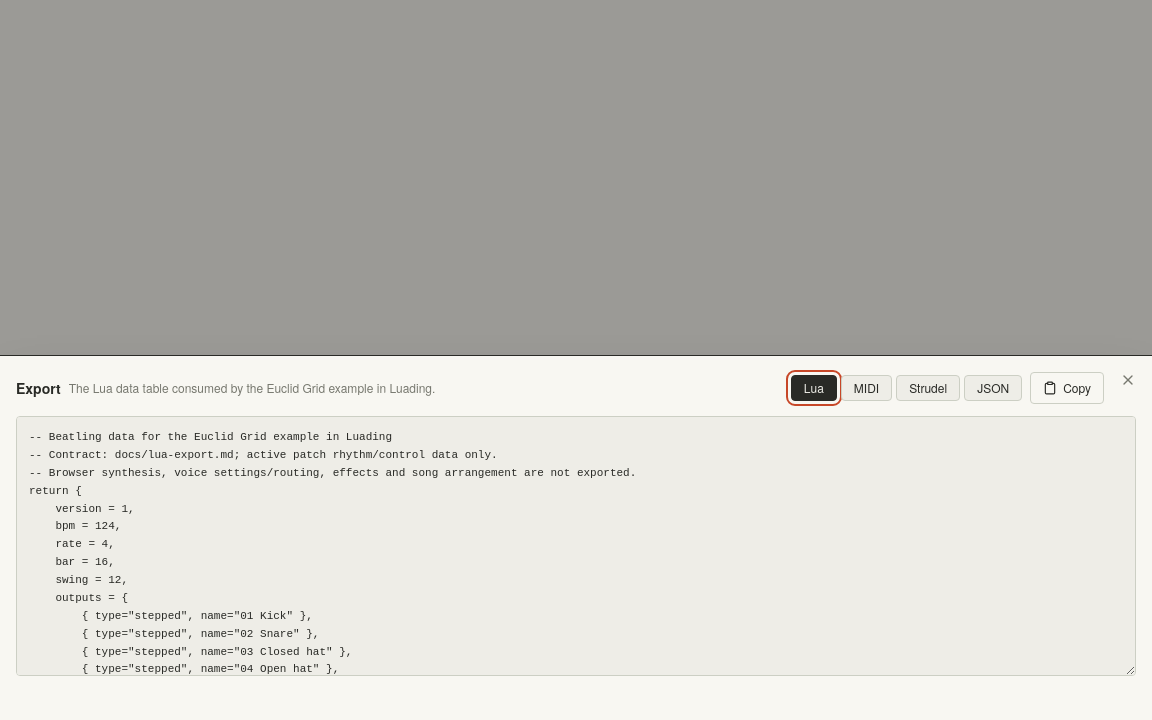
Test: ExportDialog › offers Lua data, MIDI download, Strudel code, and editable JSON
Step 1. Press the mouse on the tab "MIDI" → x=866, y=388, box [841, 375, 892, 401]
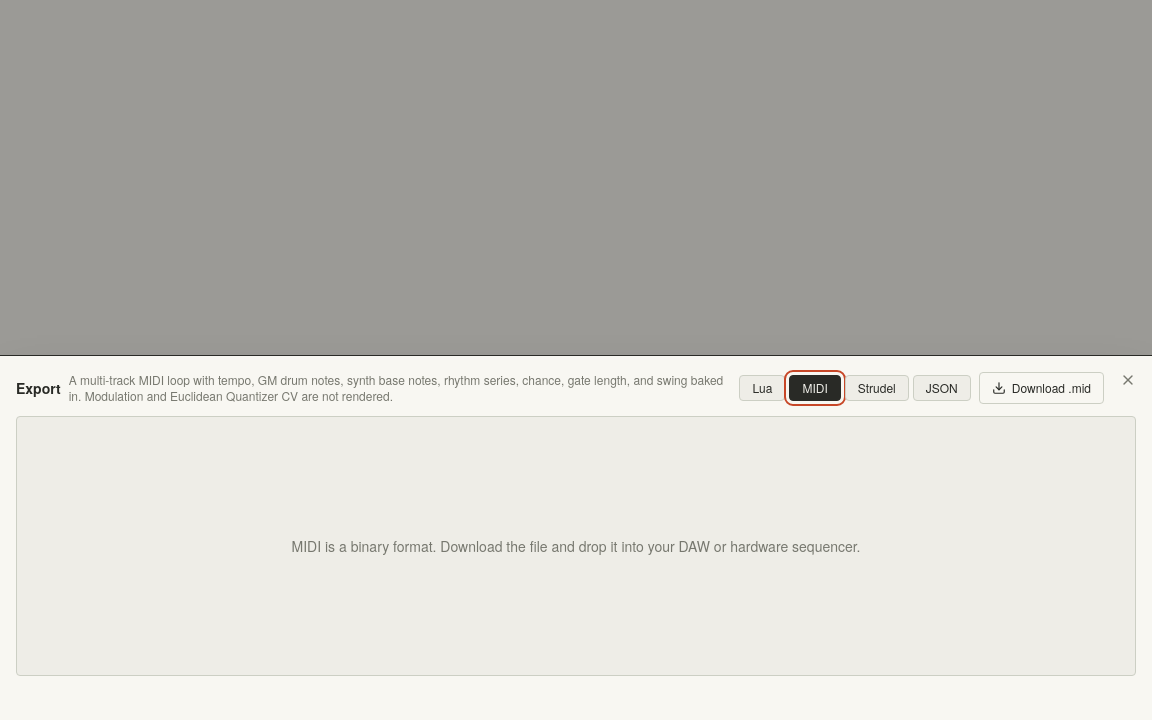
Step 2. Click the button "Download .mid" → x=1041, y=388, box [979, 372, 1104, 404]
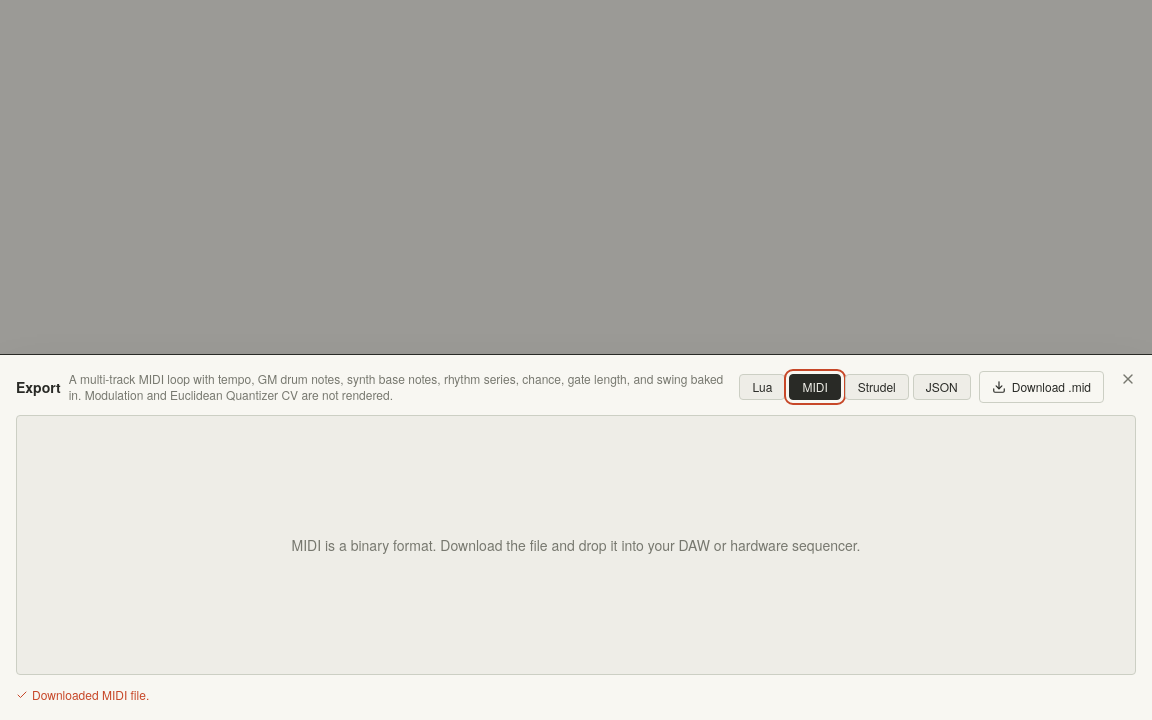
Now the text "Downloaded MIDI file." is shown, box [16, 687, 149, 703]
Step 3. Press the mouse on the tab "Strudel" → x=877, y=387, box [845, 374, 909, 400]
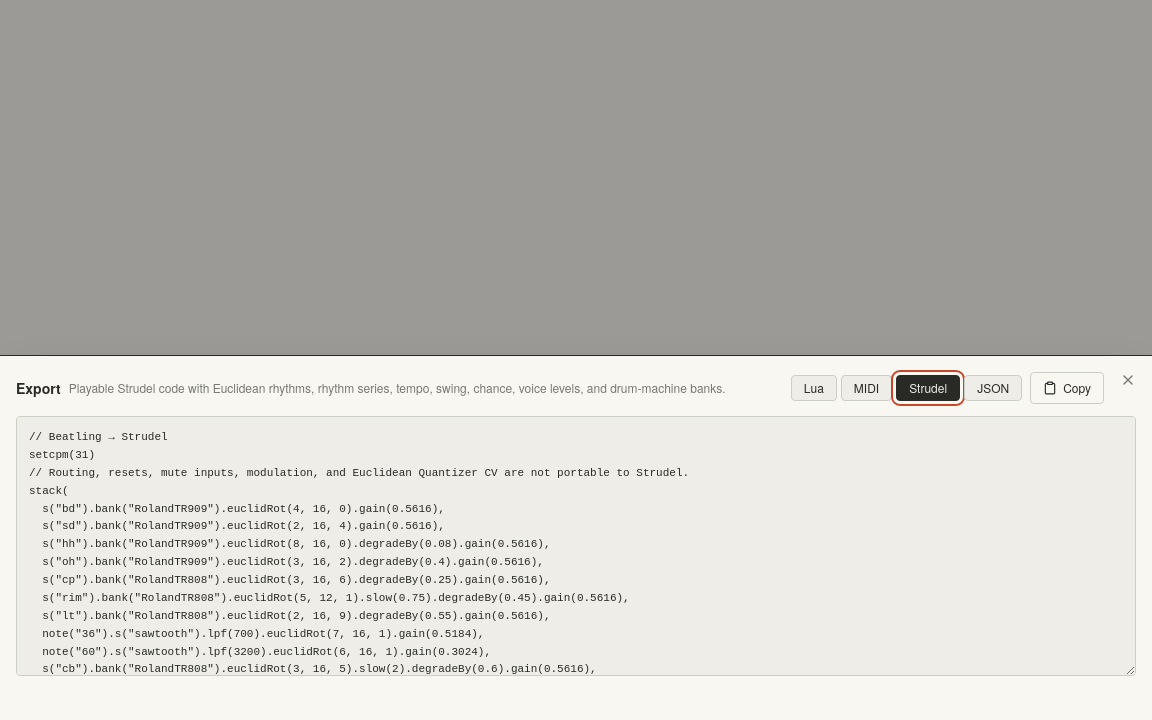
Step 4. Press the mouse on the tab "JSON" → x=993, y=388, box [964, 375, 1022, 401]
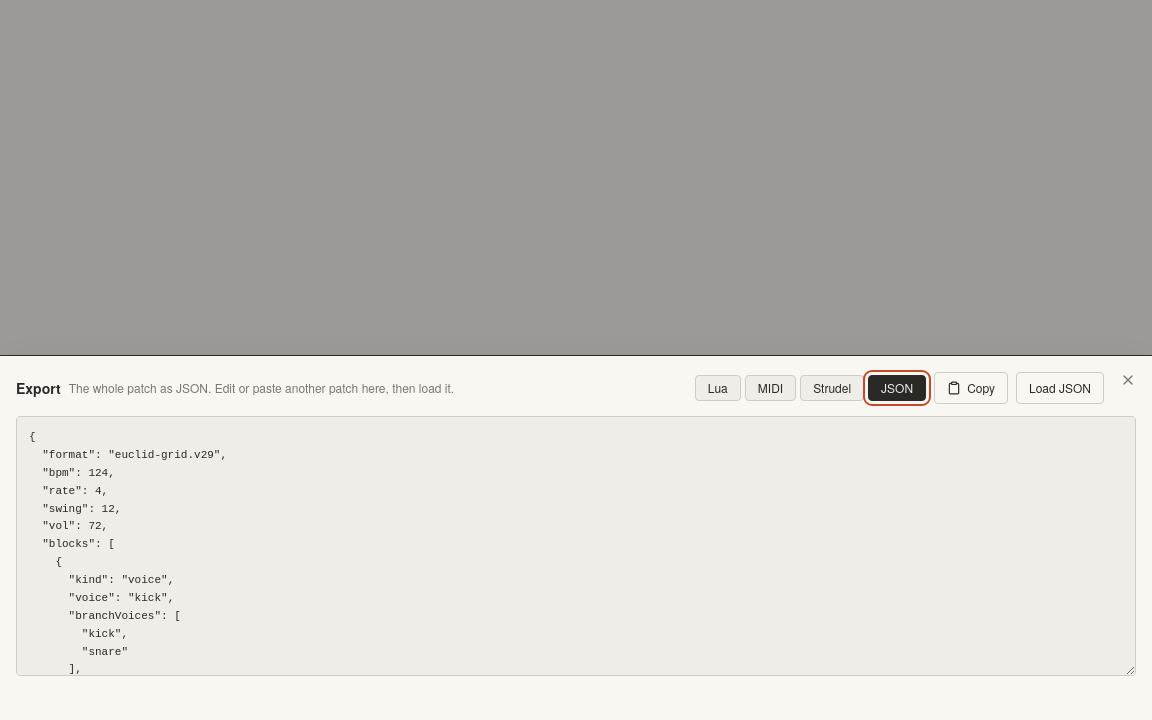
Now the button "Load JSON" is shown, box [1016, 372, 1104, 404]
